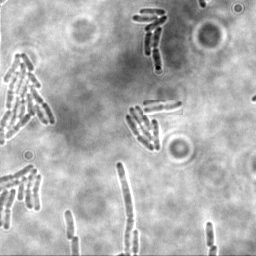Dividing: (114, 161, 133, 255), (143, 100, 183, 115), (204, 221, 215, 248)
Microcolony: (1, 51, 56, 147), (1, 162, 44, 231), (130, 8, 167, 72), (124, 106, 160, 153), (63, 208, 74, 240)
